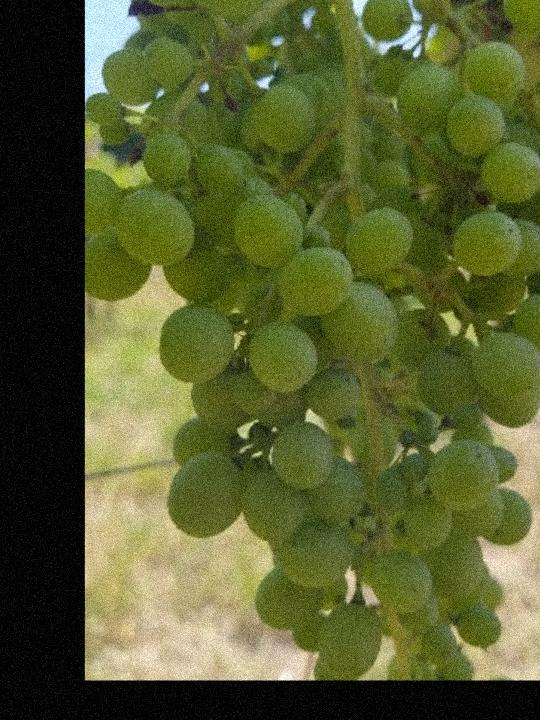grape: (38, 0, 540, 720)
